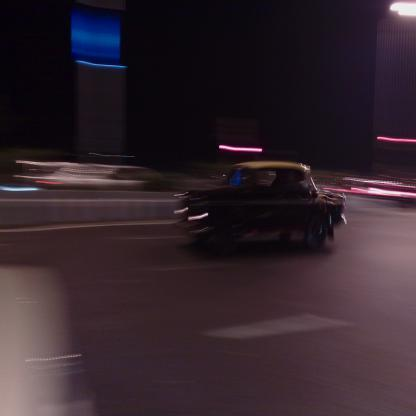car: (181, 162, 346, 250)
